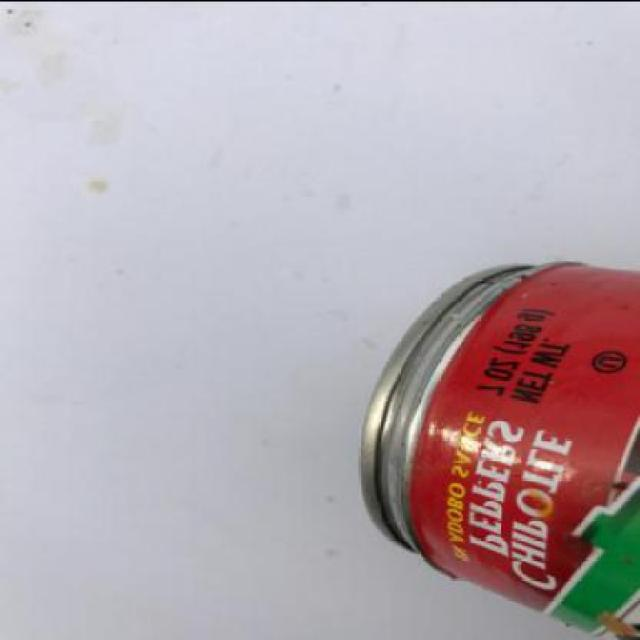METAL: (357, 260, 638, 638)
